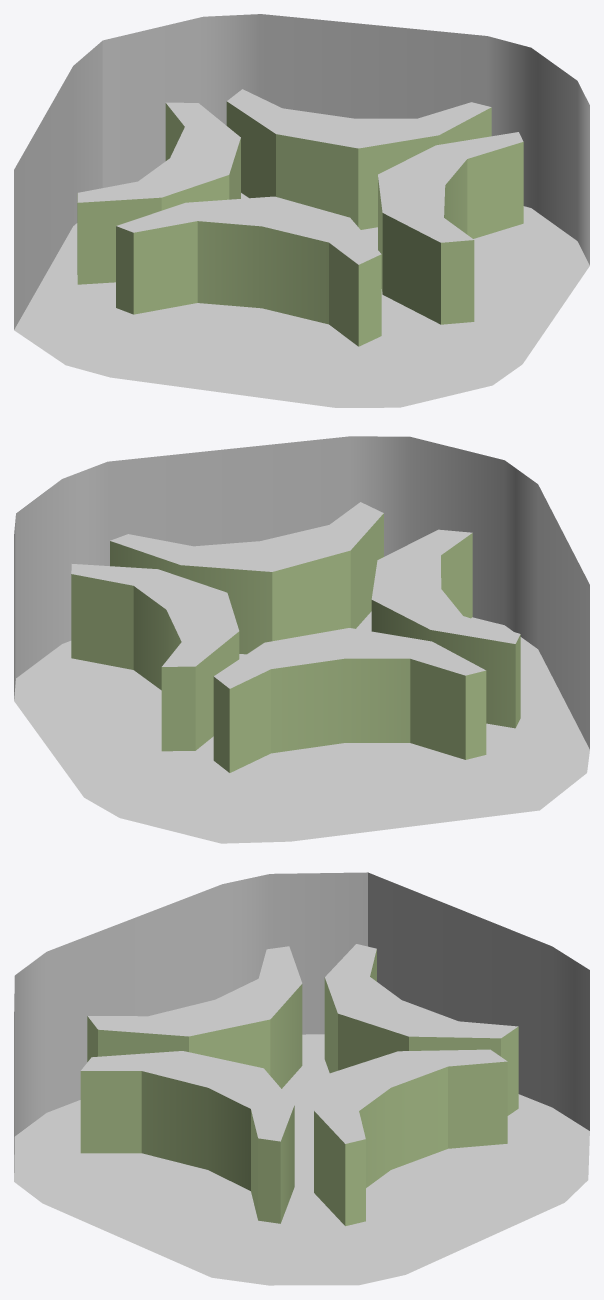
Rendered from StinkyCheeseAsterisk_0.glb.
3 renders of one model, top to bottom at view 1: azimuth 30°, elevation 25°; view 2: azimuth 150°, elevation 25°; view 3: azimuth 270°, elevation 25°, orthographic. The views are drawn at different scales.
Visible parts, largest first — view 1: StinkyCheeseAsterisk; view 2: StinkyCheeseAsterisk; view 3: StinkyCheeseAsterisk.
Boxes of the visible parts, x1,y1,x2,y2 form: StinkyCheeseAsterisk: (14, 14, 589, 407); StinkyCheeseAsterisk: (14, 436, 589, 843); StinkyCheeseAsterisk: (14, 872, 589, 1285).
Size of the model in its own units: 0.263 by 0.0784 by 0.2542.
